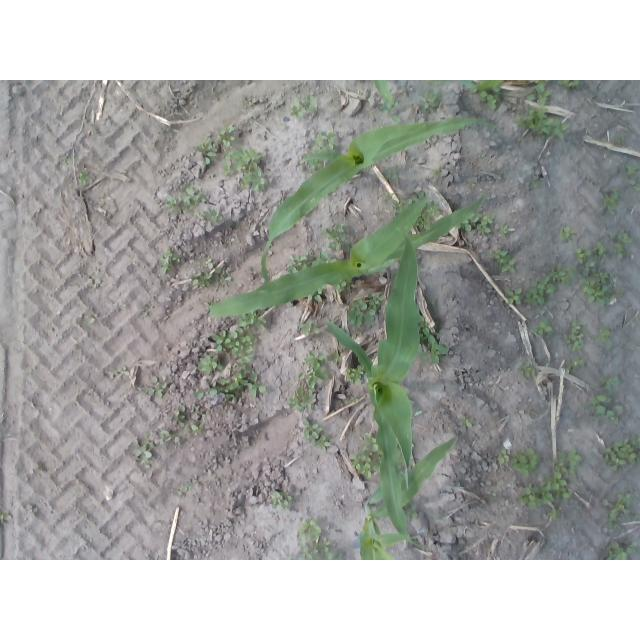Maize: (261, 119, 497, 282), (209, 195, 483, 317), (326, 229, 420, 547), (361, 433, 459, 560), (374, 80, 503, 104)
Weeds: (518, 462, 571, 506), (234, 313, 266, 363), (216, 363, 252, 401), (605, 439, 637, 471), (513, 449, 543, 477), (526, 277, 554, 306), (533, 118, 568, 138), (233, 149, 262, 171), (288, 389, 317, 411), (349, 452, 372, 479), (297, 371, 329, 390), (601, 500, 627, 521), (140, 377, 166, 398), (567, 319, 584, 351), (197, 137, 216, 165), (304, 420, 324, 445), (134, 436, 154, 460), (244, 170, 265, 192), (246, 374, 266, 397), (557, 449, 581, 468), (527, 84, 549, 104), (300, 520, 322, 540), (166, 405, 186, 427), (421, 88, 439, 112), (269, 491, 292, 509), (212, 330, 232, 350), (588, 286, 608, 306), (421, 345, 442, 364), (549, 269, 576, 283), (347, 364, 365, 385), (605, 544, 628, 560), (199, 355, 217, 375), (361, 434, 379, 454), (305, 352, 326, 369), (217, 130, 236, 148), (517, 110, 536, 128), (202, 210, 222, 227), (347, 308, 363, 329), (300, 93, 318, 111), (480, 90, 496, 110), (298, 321, 319, 336), (193, 270, 212, 286), (505, 288, 524, 304), (166, 195, 183, 212), (579, 279, 597, 294), (500, 256, 516, 272), (314, 434, 330, 450), (195, 389, 218, 400), (518, 363, 536, 377), (162, 250, 172, 275), (568, 357, 585, 371), (367, 294, 385, 307), (300, 545, 316, 559), (418, 213, 431, 230), (606, 375, 620, 390), (591, 394, 612, 404), (596, 272, 612, 285), (154, 432, 170, 445), (424, 328, 436, 345), (585, 258, 596, 276), (321, 131, 335, 145), (186, 188, 199, 203), (596, 329, 609, 344), (317, 138, 333, 150), (176, 484, 192, 496), (488, 250, 509, 259), (559, 80, 579, 89), (477, 222, 492, 234), (459, 416, 474, 428), (291, 106, 304, 119), (316, 538, 329, 551), (457, 220, 471, 232), (326, 350, 340, 362), (499, 449, 510, 464), (597, 405, 613, 415), (407, 504, 417, 520), (364, 309, 376, 322), (321, 251, 335, 262), (383, 169, 397, 180), (549, 509, 563, 520), (181, 183, 196, 193), (323, 227, 338, 237), (559, 227, 569, 242), (189, 425, 204, 435), (142, 304, 154, 316), (428, 206, 440, 218), (325, 552, 343, 560), (27, 504, 38, 517), (1, 510, 12, 523), (537, 107, 548, 120), (292, 255, 306, 265), (617, 493, 631, 503), (79, 172, 90, 184), (380, 100, 391, 112), (538, 323, 550, 334), (615, 242, 623, 258), (198, 189, 207, 203), (327, 242, 341, 251), (598, 242, 607, 256), (168, 433, 180, 443), (603, 195, 613, 207), (611, 188, 621, 200), (577, 249, 585, 264), (118, 367, 130, 377), (316, 290, 325, 303), (222, 165, 232, 176), (621, 233, 632, 243), (627, 542, 637, 553), (336, 281, 347, 291), (208, 264, 220, 273), (312, 256, 324, 265), (484, 215, 496, 224), (392, 199, 401, 211), (359, 298, 368, 310), (191, 405, 201, 415), (625, 165, 635, 175), (630, 434, 640, 444), (109, 369, 118, 380), (401, 200, 412, 209), (87, 279, 101, 286), (310, 160, 322, 168), (469, 214, 479, 223), (141, 460, 152, 468), (337, 223, 345, 234), (173, 254, 182, 263), (290, 264, 299, 273), (63, 157, 73, 165), (226, 125, 235, 133), (224, 152, 232, 161), (618, 138, 626, 147), (183, 200, 190, 210), (349, 396, 359, 403), (240, 182, 248, 190), (392, 115, 400, 123), (431, 169, 442, 174), (284, 556, 297, 560), (214, 273, 219, 283), (203, 412, 210, 419), (501, 226, 508, 233), (530, 326, 538, 332), (612, 416, 619, 422), (600, 376, 605, 384), (393, 101, 399, 107), (630, 181, 636, 187), (609, 205, 615, 211), (616, 289, 622, 295), (120, 303, 127, 308), (89, 318, 96, 323), (588, 249, 593, 256), (205, 260, 211, 265), (532, 181, 537, 187), (384, 194, 390, 199), (226, 277, 231, 282), (342, 236, 347, 241), (197, 213, 204, 216), (507, 229, 514, 232), (218, 364, 222, 369), (250, 102, 253, 107)
